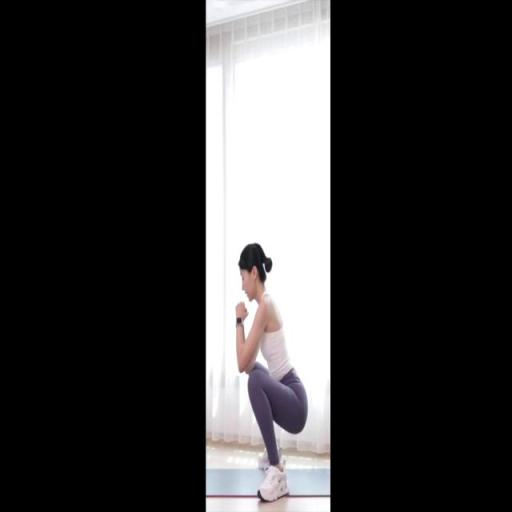Normal_BrenchPress: (234, 243, 309, 504)
